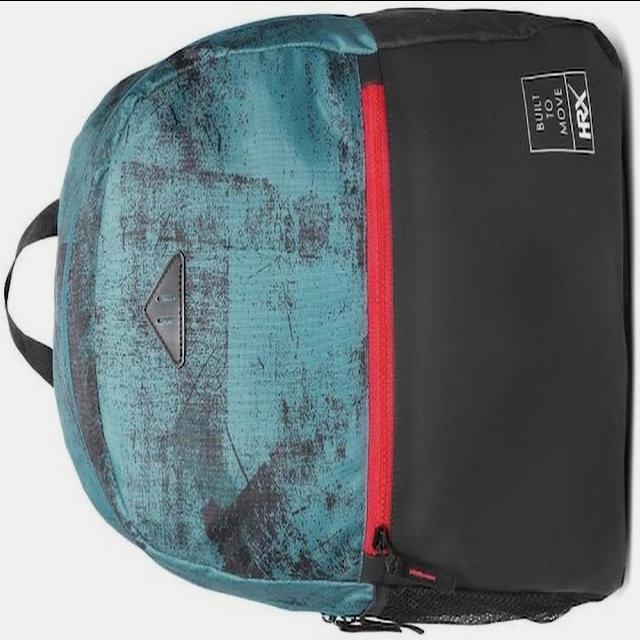backpack: (4, 8, 632, 635)
